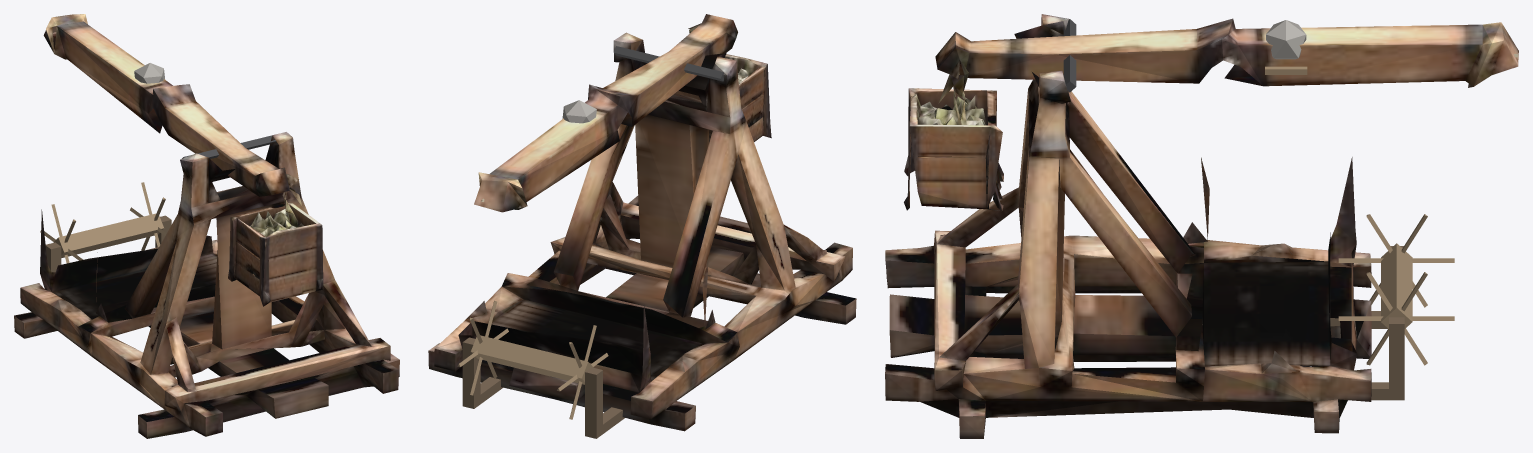
Rendered from ga3_trebuchet_lod.glb.
The picture shows the model from 3 angles, left to right: view 1: azimuth 30°, elevation 25°; view 2: azimuth 150°, elevation 25°; view 3: azimuth 270°, elevation 25°; orthographic projection. The views are drawn at different scales.
Visible parts, largest first — view 1: Frame, ArmBeam, CounterweightBox, Winch, WinchFrame, Stone, Axle; view 2: Frame, ArmBeam, Winch, WinchFrame, CounterweightBox, Axle, Stone; view 3: Frame, ArmBeam, CounterweightBox, Winch, WinchFrame, Stone, Axle.
Part boxes in pixels (left/top/right/bottom): Frame: left=14, top=132, right=399, bottom=438; ArmBeam: left=43, top=14, right=302, bottom=206; CounterweightBox: left=228, top=191, right=323, bottom=306; Winch: left=40, top=182, right=166, bottom=263; WinchFrame: left=45, top=215, right=171, bottom=272; Stone: left=134, top=63, right=164, bottom=83; Axle: left=182, top=135, right=276, bottom=158; Frame: left=428, top=32, right=856, bottom=431; ArmBeam: left=474, top=14, right=737, bottom=212; Winch: left=457, top=300, right=608, bottom=419; WinchFrame: left=462, top=337, right=624, bottom=438; CounterweightBox: left=675, top=54, right=771, bottom=142; Axle: left=613, top=46, right=723, bottom=81; Stone: left=562, top=100, right=596, bottom=123; Frame: left=885, top=14, right=1371, bottom=438; ArmBeam: left=935, top=18, right=1518, bottom=103; CounterweightBox: left=904, top=73, right=1003, bottom=210; Winch: left=1338, top=214, right=1454, bottom=365; WinchFrame: left=1330, top=246, right=1404, bottom=400; Stone: left=1266, top=20, right=1306, bottom=59; Axle: left=1063, top=19, right=1076, bottom=92.
Size of the model in its own units: 7.35 by 7.15 by 12.03.
Materials: 7 (1 with a texture image).
